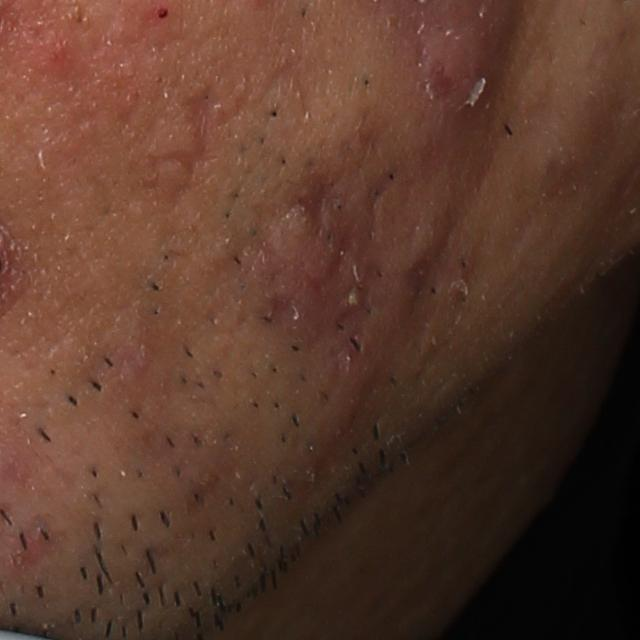atrophic_scar: (143, 86, 215, 190)
papule: (256, 194, 378, 343), (33, 31, 83, 73)
